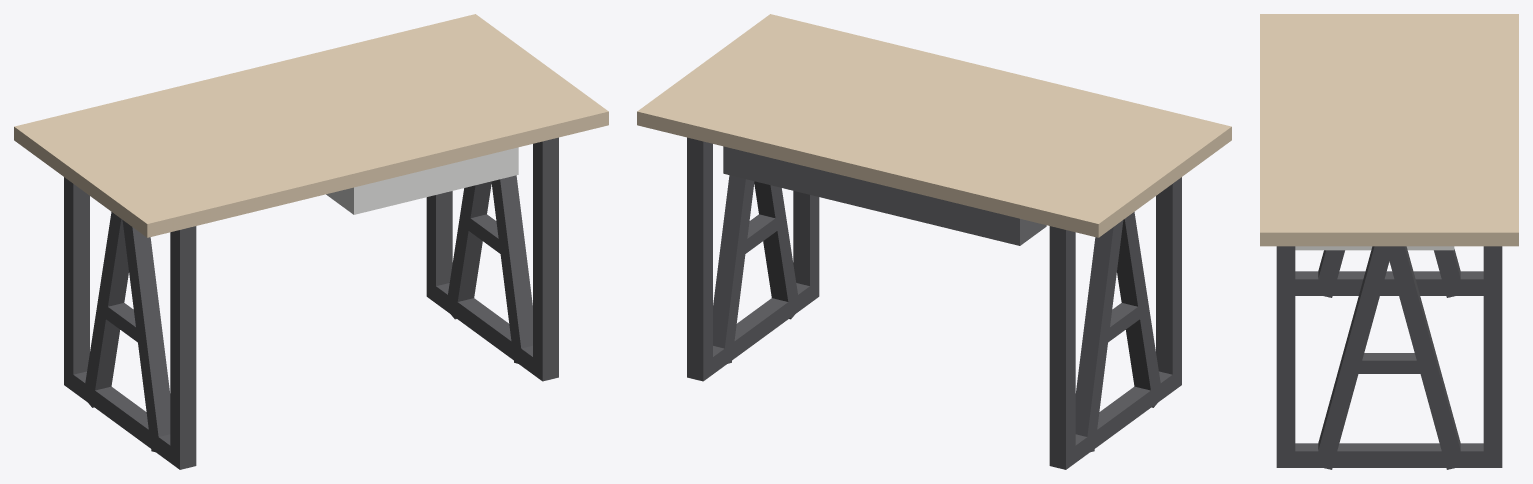
The model's file is placeholder-desk.glb.
The picture shows the model from 3 angles, left to right: view 1: azimuth 30°, elevation 25°; view 2: azimuth 150°, elevation 25°; view 3: azimuth 270°, elevation 25°; orthographic projection. The views are drawn at different scales.
Parts seen in each view (by area): view 1: Top, Leg_A_Left_PostFront, Leg_A_Right_PostFront, Leg_B_Left_PostFront, Drawer, Leg_A_Left_PostBack, Leg_B_Right_PostFront, Leg_B_Left_PostBack, Leg_B_Right_PostBack, Leg_A_Right_Rail, Leg_A_Left_Rail, Leg_A_Right_PostBack (+2 smaller); view 2: Top, CableTray, Leg_A_Left_PostBack, Leg_A_Right_PostBack, Leg_B_Left_PostBack, Leg_A_Left_PostFront, Leg_B_Right_PostBack, Leg_B_Left_PostFront, Leg_A_Right_Rail, Leg_B_Right_PostFront, Leg_A_Left_Rail, Leg_A_Right_PostFront (+2 smaller); view 3: Top, Leg_A_Right_Rail, Leg_B_Right_PostFront, Leg_B_Right_PostBack, Leg_A_Right_PostBack, Leg_A_Right_PostFront, Leg_A_Left_Rail, Leg_B_Right_Bar, Leg_B_Left_PostFront, Leg_B_Left_PostBack, Drawer.
Boxes of the visible parts, box(x1,y1,x2,y2) form: Top: box(14, 14, 608, 237); Leg_A_Left_PostFront: box(170, 226, 196, 469); Leg_A_Right_PostFront: box(533, 137, 558, 380); Leg_B_Left_PostFront: box(122, 220, 170, 452); Drawer: box(326, 147, 518, 214); Leg_A_Left_PostBack: box(64, 177, 89, 383); Leg_B_Right_PostFront: box(491, 175, 532, 363); Leg_B_Left_PostBack: box(83, 212, 128, 407); Leg_B_Right_PostBack: box(446, 181, 491, 319); Leg_A_Right_Rail: box(427, 280, 558, 381); Leg_A_Left_Rail: box(64, 370, 189, 469); Leg_A_Right_PostBack: box(426, 191, 452, 302); Top: box(637, 14, 1231, 237); CableTray: box(723, 146, 1046, 245); Leg_A_Left_PostBack: box(1049, 226, 1075, 469); Leg_A_Right_PostBack: box(687, 137, 712, 380); Leg_B_Left_PostBack: box(1075, 220, 1123, 452); Leg_A_Left_PostFront: box(1156, 177, 1181, 391); Leg_B_Right_PostBack: box(713, 175, 754, 363); Leg_B_Left_PostFront: box(1117, 212, 1162, 407); Leg_A_Right_Rail: box(687, 281, 819, 381); Leg_B_Right_PostFront: box(754, 181, 799, 319); Leg_A_Left_Rail: box(1057, 371, 1172, 469); Leg_A_Right_PostFront: box(793, 191, 819, 302); Top: box(1260, 14, 1518, 246); Leg_A_Right_Rail: box(1276, 443, 1502, 467); Leg_B_Right_PostFront: box(1318, 246, 1393, 469); Leg_B_Right_PostBack: box(1385, 246, 1462, 469); Leg_A_Right_PostBack: box(1483, 246, 1502, 467); Leg_A_Right_PostFront: box(1276, 246, 1295, 467); Leg_A_Left_Rail: box(1295, 271, 1483, 295); Leg_B_Right_Bar: box(1350, 353, 1428, 373); Leg_B_Left_PostFront: box(1314, 250, 1344, 297); Leg_B_Left_PostBack: box(1434, 249, 1464, 297); Drawer: box(1295, 246, 1454, 250).
Bounding box in the file's own units: 1.4 × 0.766 × 0.7.
